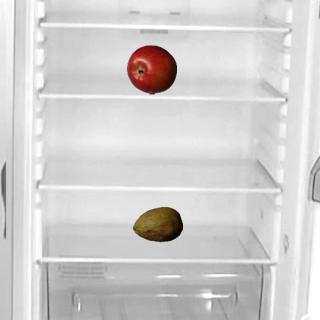Apple Braeburn: (126, 44, 176, 94)
Papaya: (132, 199, 182, 249)
